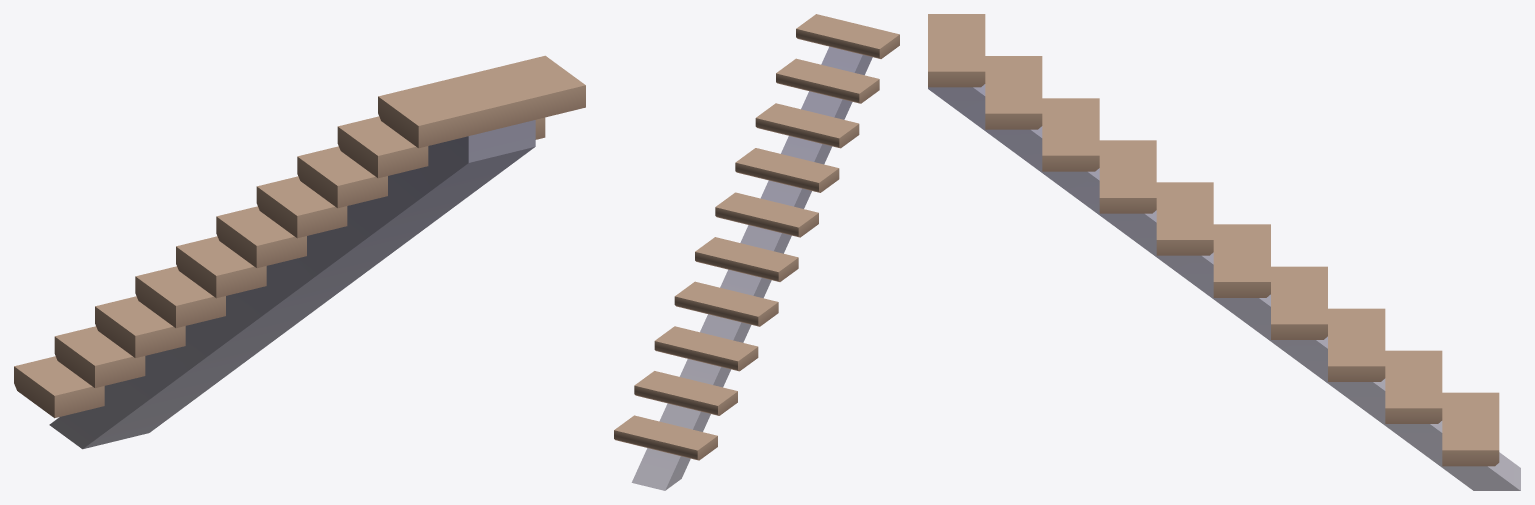
File: stairs-floating-support.glb
3 renders of one model, left to right at view 1: azimuth 30°, elevation 25°; view 2: azimuth 150°, elevation 25°; view 3: azimuth 270°, elevation 25°, orthographic. The views are drawn at different scales.
Parts seen in each view (by area): view 1: stairs-floating-support; view 2: stairs-floating-support; view 3: stairs-floating-support.
Part boxes in pixels (box(x1,y1,x2,y2)): stairs-floating-support: box(14, 55, 585, 449); stairs-floating-support: box(614, 14, 899, 490); stairs-floating-support: box(928, 14, 1520, 490).
Size of the model in its own units: 0.6514 by 2.3 by 2.83.
